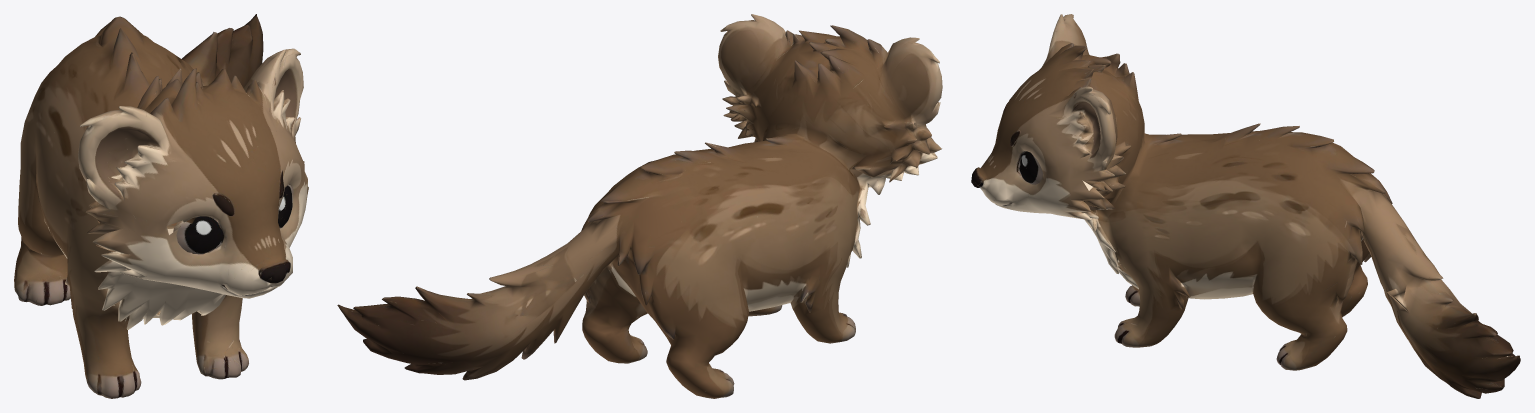
The picture shows the model from 3 angles, left to right: view 1: azimuth 30°, elevation 25°; view 2: azimuth 150°, elevation 25°; view 3: azimuth 270°, elevation 25°; orthographic projection. The views are drawn at different scales.
Size of the model in its own units: 0.7314 by 0.5205 by 0.9492.
Materials: 1 (1 with a texture image).
